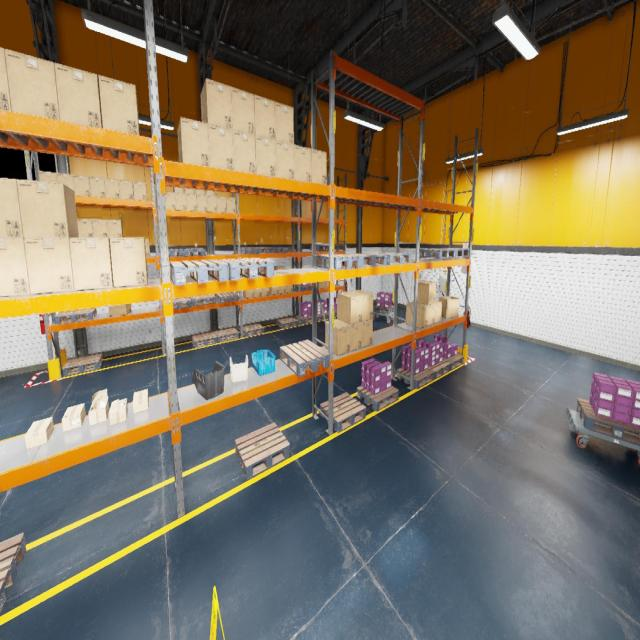box: (5, 49, 60, 120), (16, 179, 78, 238), (54, 62, 102, 128), (24, 238, 74, 294), (99, 75, 140, 135), (69, 238, 113, 290), (110, 238, 148, 288), (0, 238, 30, 296), (177, 116, 210, 166), (200, 78, 232, 129), (0, 177, 23, 237), (208, 124, 234, 170), (231, 86, 255, 134), (232, 130, 255, 174), (24, 417, 54, 449), (254, 94, 275, 139), (325, 319, 350, 355), (255, 135, 276, 177), (275, 101, 294, 144), (88, 388, 109, 426), (338, 292, 362, 324), (0, 47, 12, 111), (349, 290, 373, 321), (276, 140, 294, 180), (294, 144, 311, 182), (62, 403, 85, 431), (406, 302, 428, 328), (311, 149, 327, 184), (109, 398, 128, 426), (438, 296, 460, 318), (417, 280, 436, 305), (56, 172, 75, 195), (73, 174, 91, 197), (418, 302, 435, 326), (133, 388, 148, 414), (89, 176, 106, 197), (350, 322, 362, 351), (104, 178, 120, 198), (119, 179, 134, 200), (108, 303, 132, 316), (77, 218, 93, 237), (107, 219, 123, 237), (92, 219, 108, 237), (362, 319, 372, 347), (133, 181, 147, 200), (196, 194, 208, 212), (38, 171, 57, 182), (175, 192, 186, 210), (434, 300, 442, 324), (165, 191, 175, 210), (186, 194, 197, 211), (226, 198, 236, 214), (207, 196, 217, 212), (217, 196, 226, 213), (242, 290, 254, 298), (145, 238, 150, 256), (173, 187, 186, 193), (317, 281, 328, 288), (254, 288, 262, 297), (269, 287, 279, 294), (185, 188, 196, 194), (196, 189, 206, 195), (262, 288, 269, 296), (207, 190, 216, 196), (286, 285, 292, 293), (274, 266, 286, 270), (279, 286, 285, 293)
pallets: (235, 423, 290, 480), (576, 398, 640, 445), (0, 533, 26, 613), (320, 392, 366, 433), (280, 340, 329, 376), (170, 260, 228, 285), (218, 258, 274, 280), (357, 385, 399, 411), (62, 353, 103, 376), (397, 367, 434, 389), (316, 254, 362, 270), (54, 308, 96, 324), (342, 253, 387, 267), (373, 252, 411, 265), (428, 360, 450, 380), (192, 332, 217, 348), (419, 248, 455, 258), (214, 328, 239, 342), (443, 354, 463, 370), (190, 294, 216, 306), (216, 291, 238, 303), (276, 317, 298, 329), (243, 324, 264, 336), (442, 248, 469, 257), (173, 297, 191, 309), (373, 305, 394, 314), (182, 248, 205, 256), (296, 315, 316, 324), (237, 247, 258, 254), (254, 247, 276, 253), (295, 284, 312, 291), (276, 246, 295, 252), (168, 249, 184, 256), (310, 245, 329, 250), (317, 313, 328, 321), (327, 311, 337, 317), (334, 245, 344, 249)
